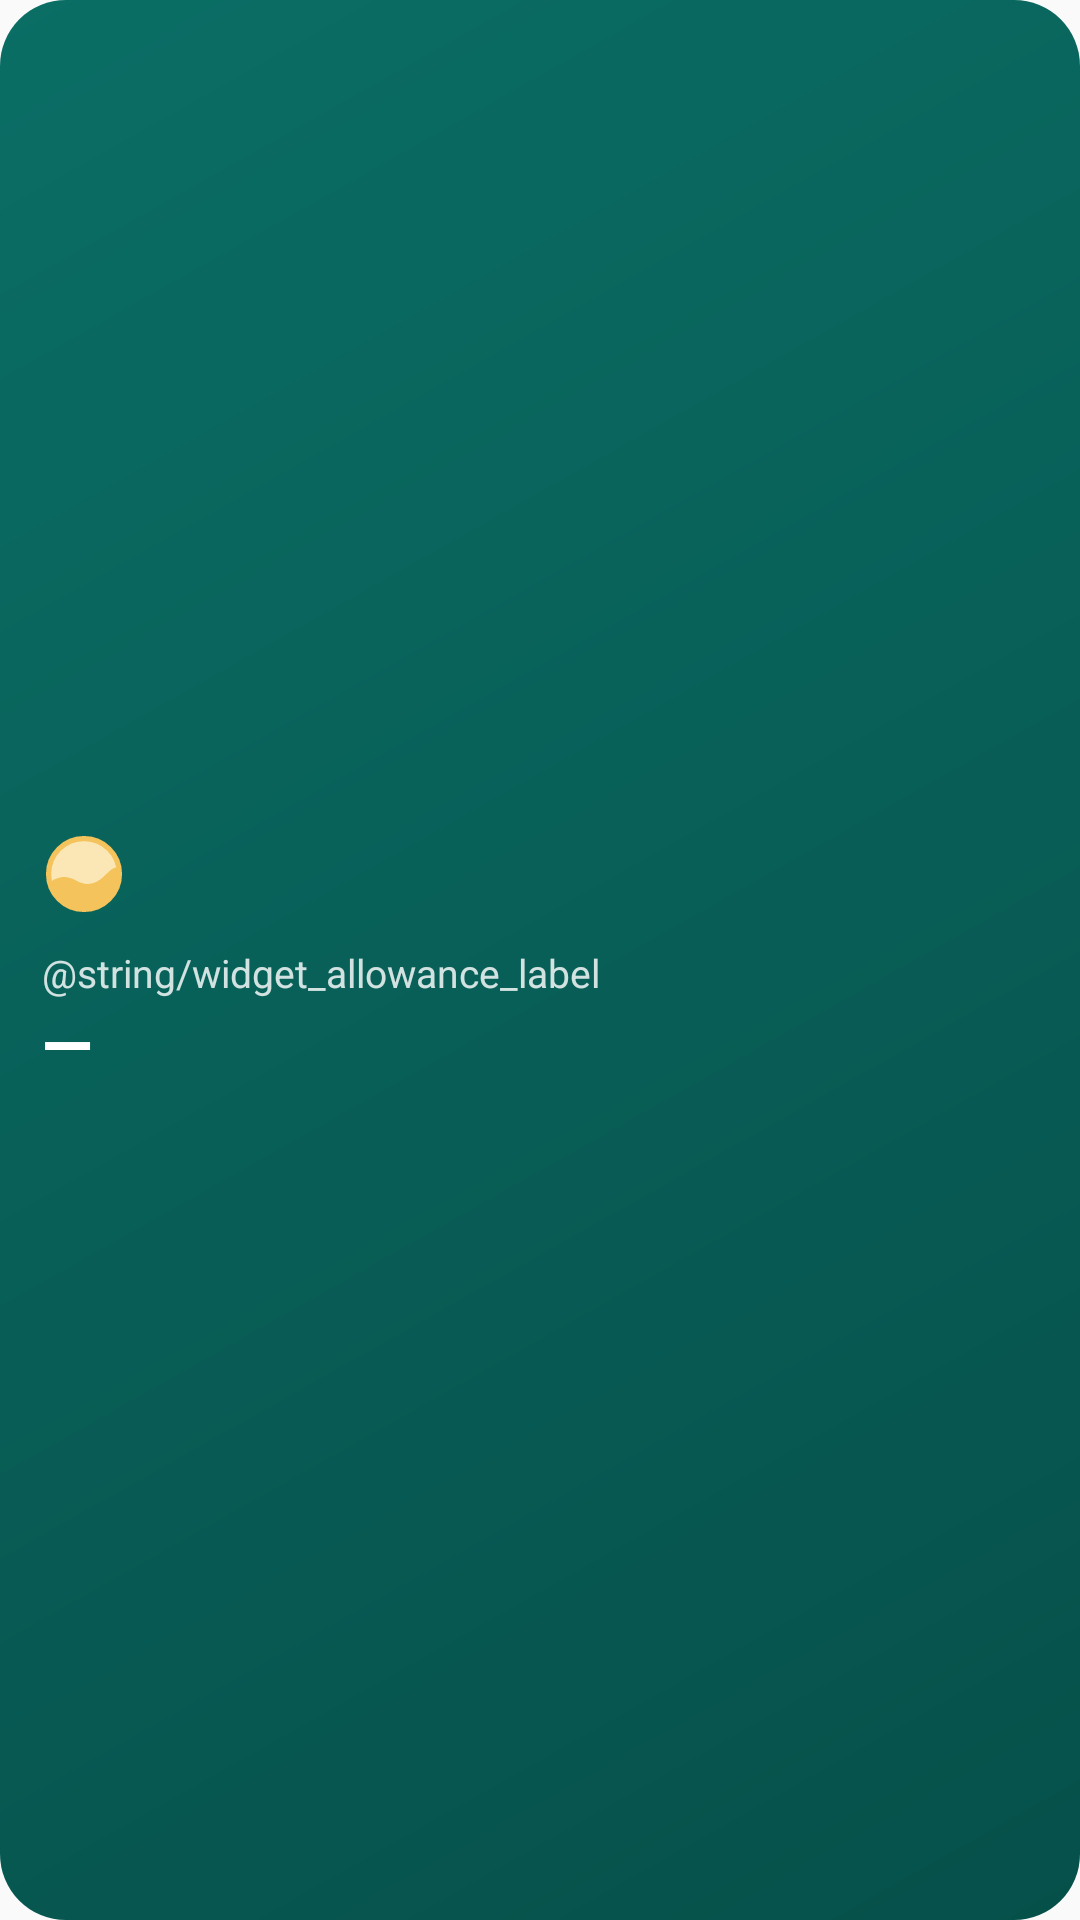

Screen size 1080 x 1920. Icon name, then its box in pixels as BBox(x1, y1, x2, y2):
widget coin: BBox(46, 836, 122, 912)
